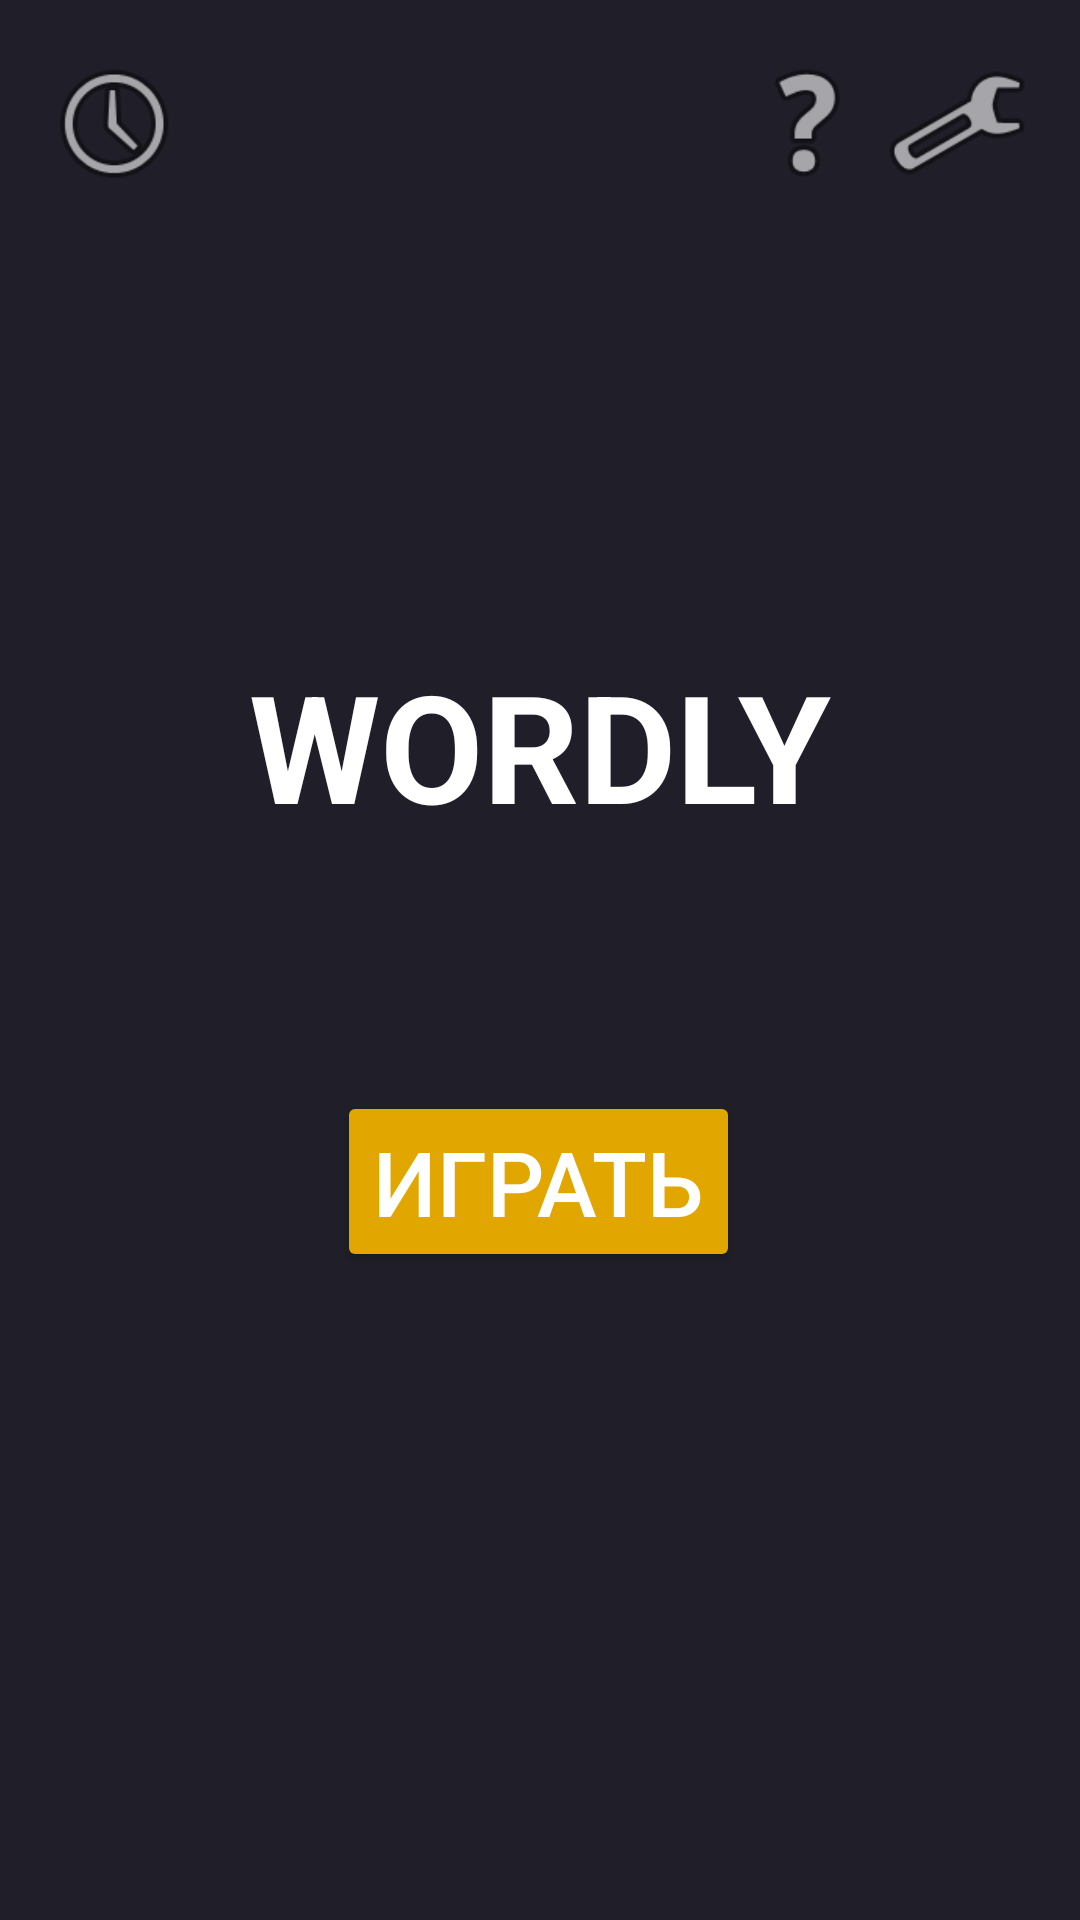

Named icons in this screenshot (1080 × 1920) and their bounding boxes, [x1, y1, x2, y2]:
help: [779, 74, 835, 172]
preferences: [894, 76, 1020, 170]
recent history: [65, 74, 164, 173]
